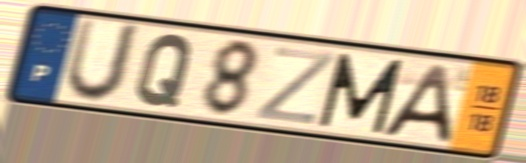8: (200, 37, 263, 119)
A: (377, 62, 454, 146)
M: (315, 50, 407, 136)
Q: (132, 31, 198, 110)
U: (61, 15, 146, 107)
Z: (252, 44, 339, 128)
